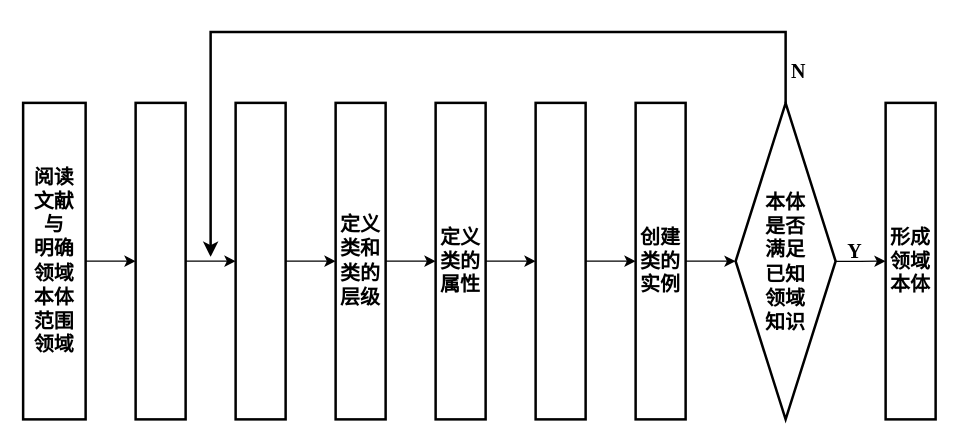
The diagram is 958 pixels wide and 441 high, and some of its shapes have lost their labels. Each missing label, with the centre of its shape:
定义类间的属性约束: (x=560, y=260)
是否存在可用本体库: (x=160, y=260)
确定领域本体框架: (x=260, y=260)
